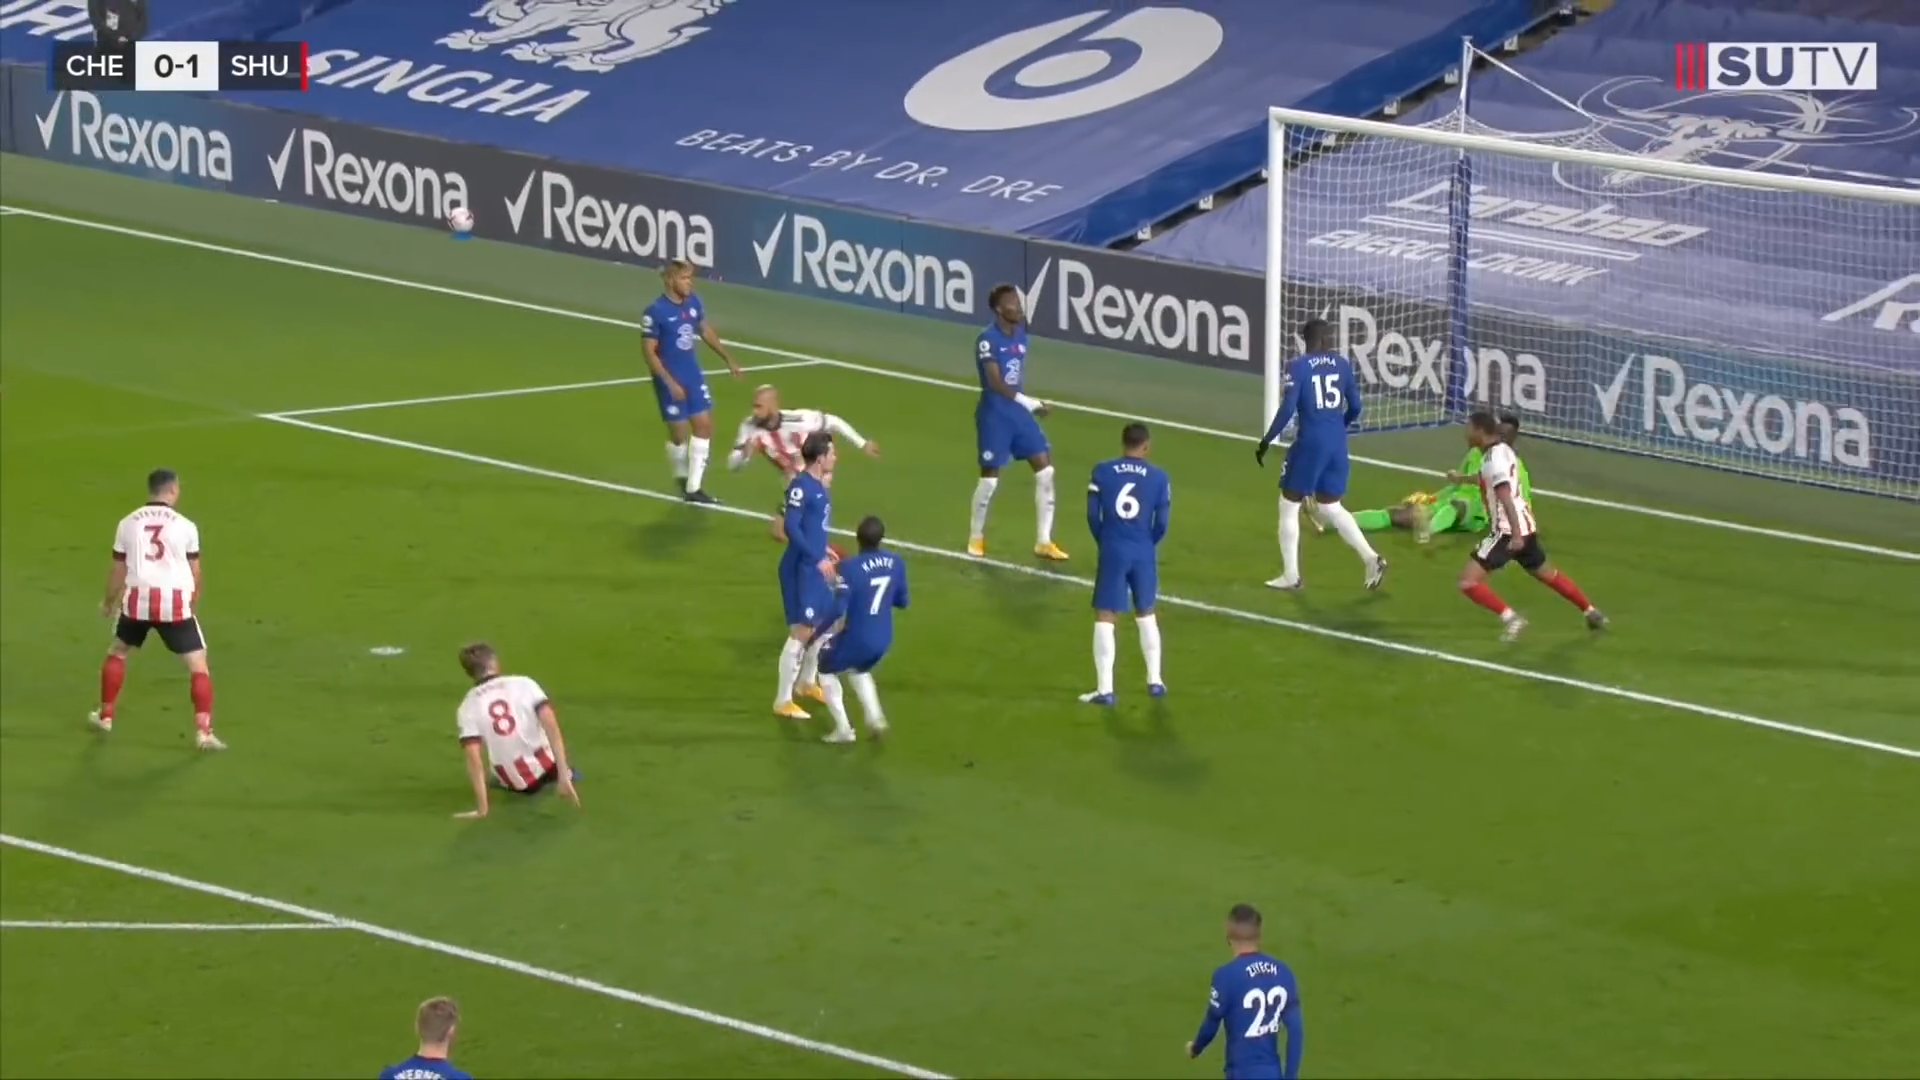Player: (71, 456, 238, 760), (1234, 312, 1388, 602), (1071, 412, 1182, 719), (960, 275, 1061, 579), (814, 504, 916, 743)
